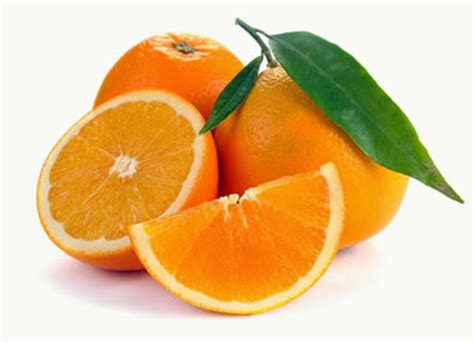orange: (214, 50, 413, 246), (85, 31, 251, 124)
